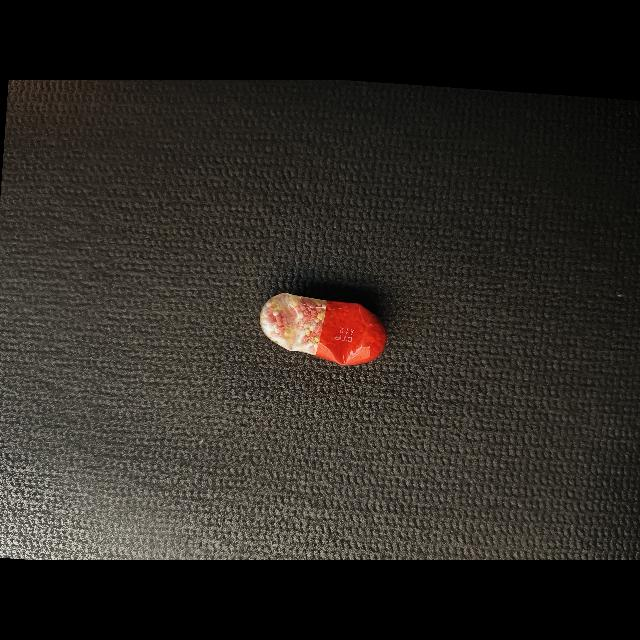Defective Capsule: (259, 293, 387, 366)
